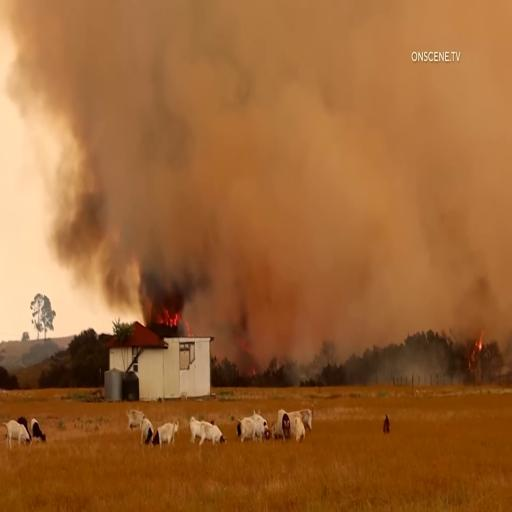fire: (466, 320, 490, 365), (162, 304, 192, 332)
smoke: (252, 74, 494, 288)
